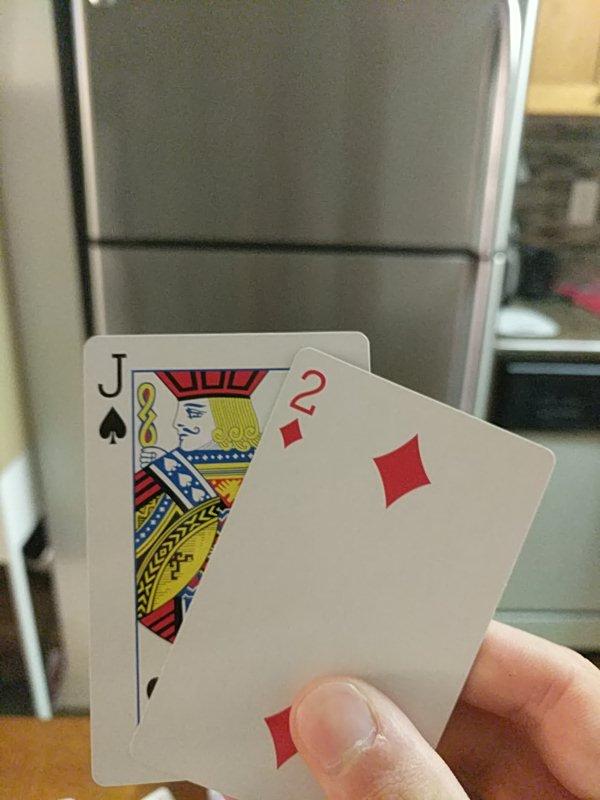Diamonds: (136, 350, 560, 800)
Spades: (86, 335, 370, 781)
